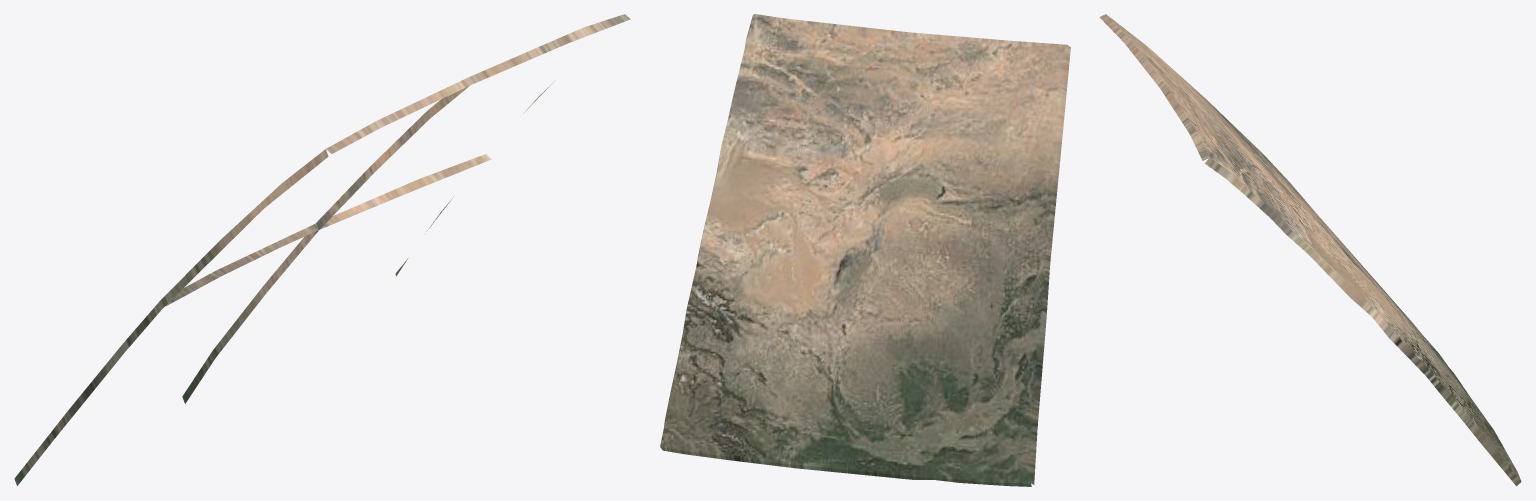
The picture shows the model from 3 angles, left to right: view 1: azimuth 30°, elevation 25°; view 2: azimuth 150°, elevation 25°; view 3: azimuth 270°, elevation 25°; orthographic projection. The views are drawn at different scales.
Size of the model in its own units: 1167356 by 983800 by 1053877.
1 material, 1 textured.
